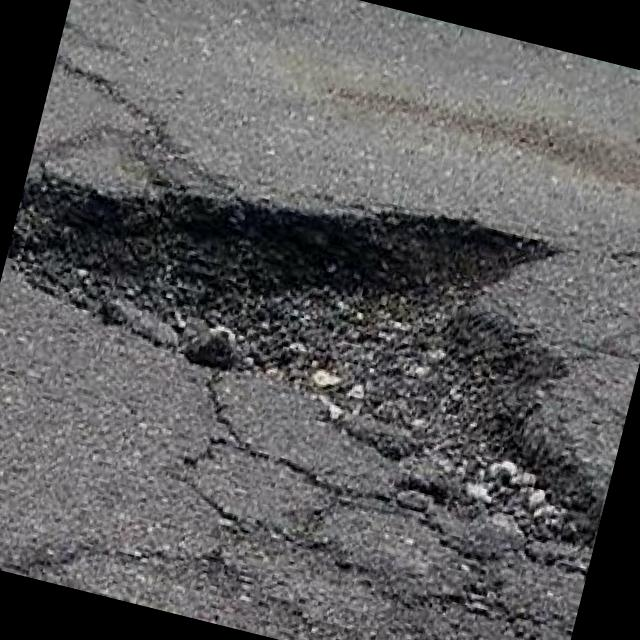pothole: (0, 106, 640, 581)
